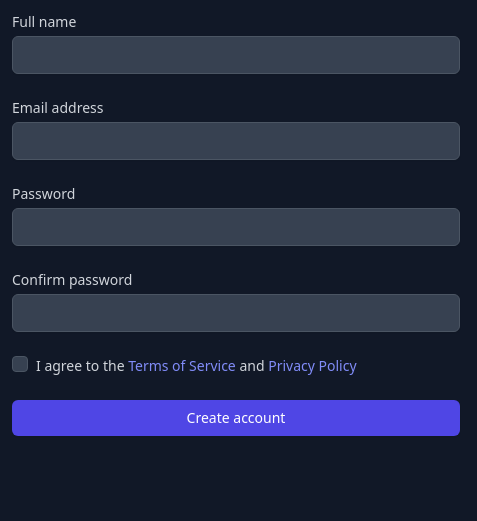
it: RegisterForm › Form Validation › validates password confirmation
The image size is (477, 521).
Step 1. Type "John Doe" into the field with id "name" → x=236, y=55, box [12,36,460,74]
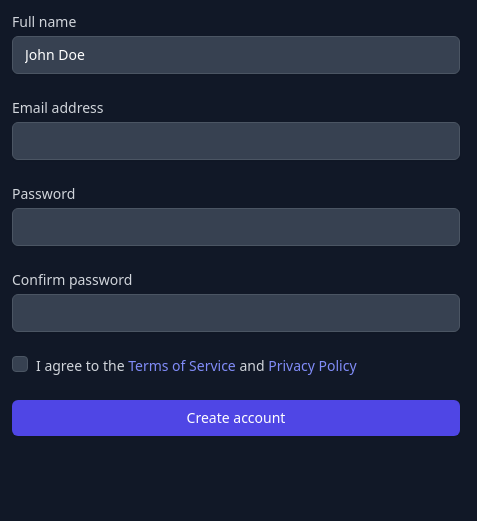
Step 2. Type "john@example.com" into the field with id "email" → x=236, y=141, box [12,122,460,160]
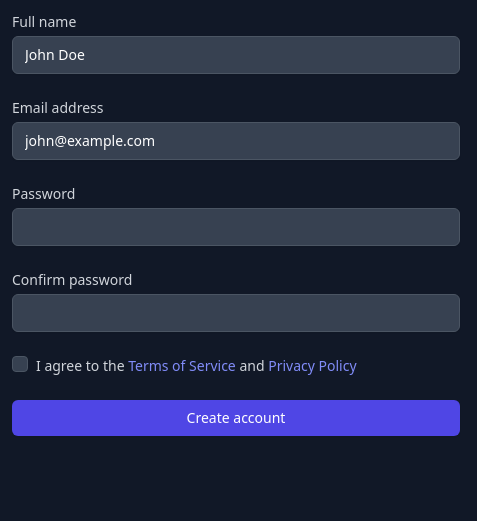
Step 3. Type "ValidPass123" into the password field labelled "Password" → x=236, y=227, box [12,208,460,246]
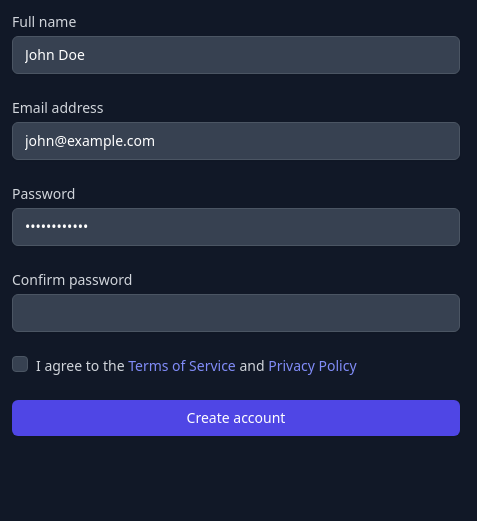
Step 4. Type "DifferentPass123" into the password field with id "confirmPassword" → x=236, y=313, box [12,294,460,332]
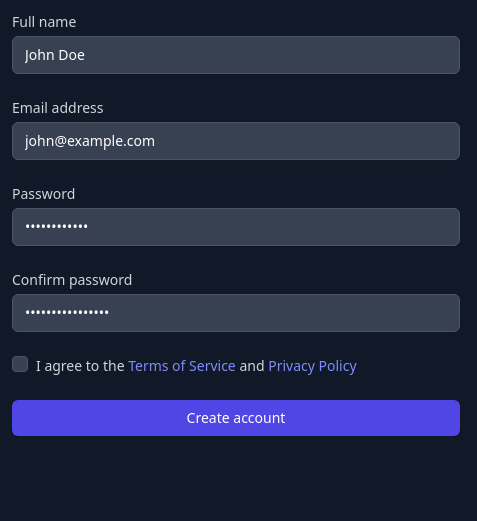
Step 5. Submit the form
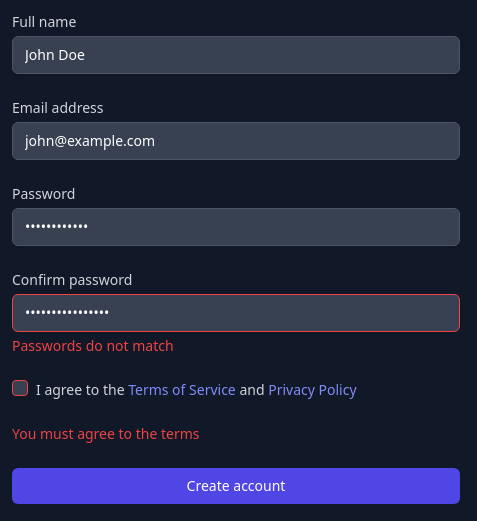
Result: the text "Passwords do not match" is shown at [12,336,174,355]
